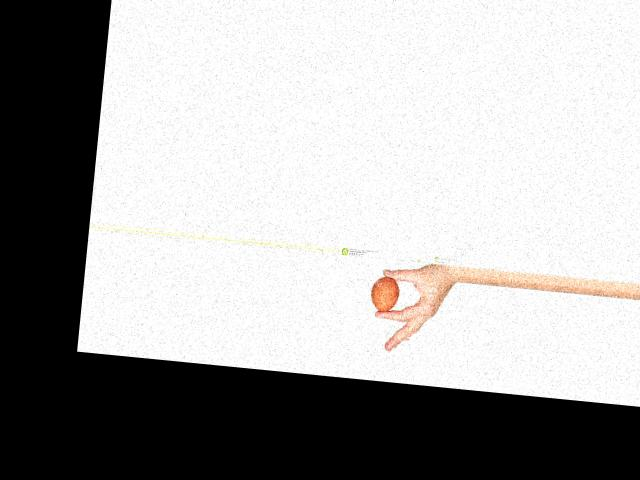egg: (369, 274, 401, 312)
